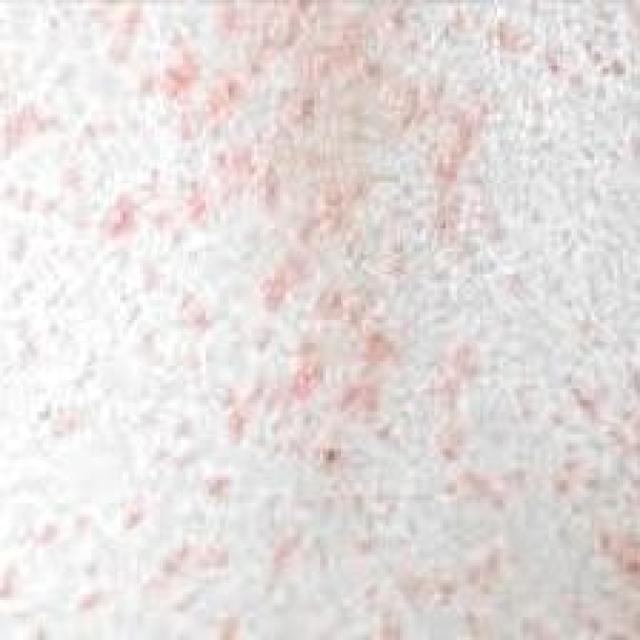others: (0, 4, 633, 640)
